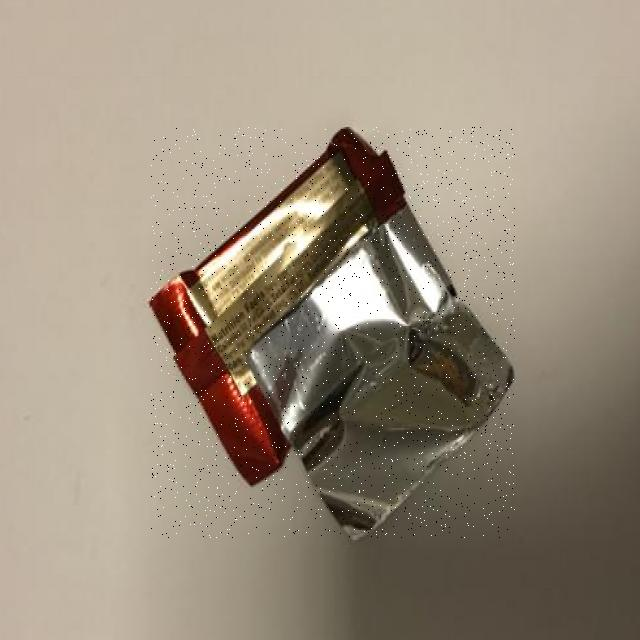wrapper: (151, 128, 515, 538)
